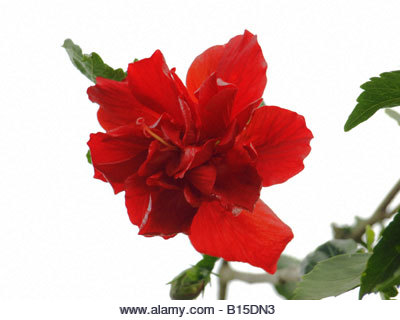Hibiscus: (84, 29, 312, 280)
